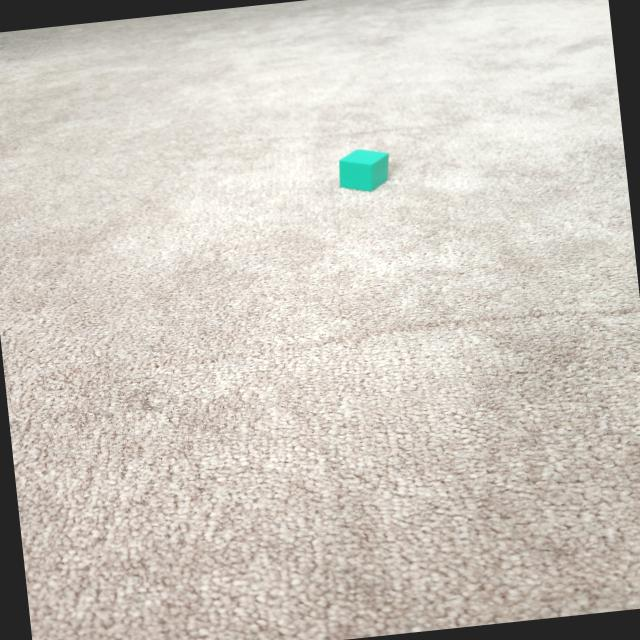green cube: (336, 144, 391, 194)
